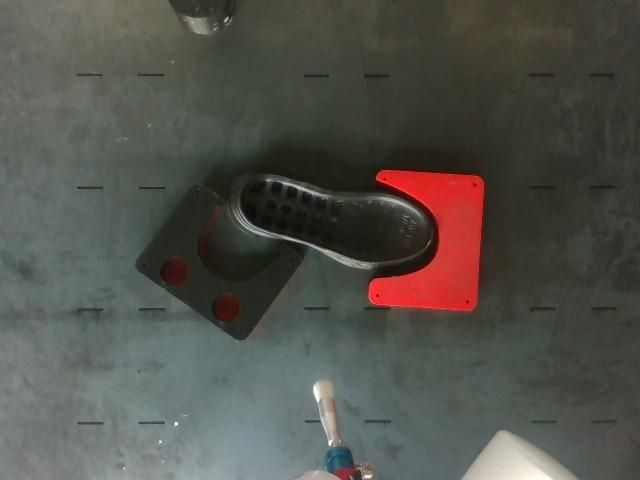shoes: (240, 175, 431, 262)
